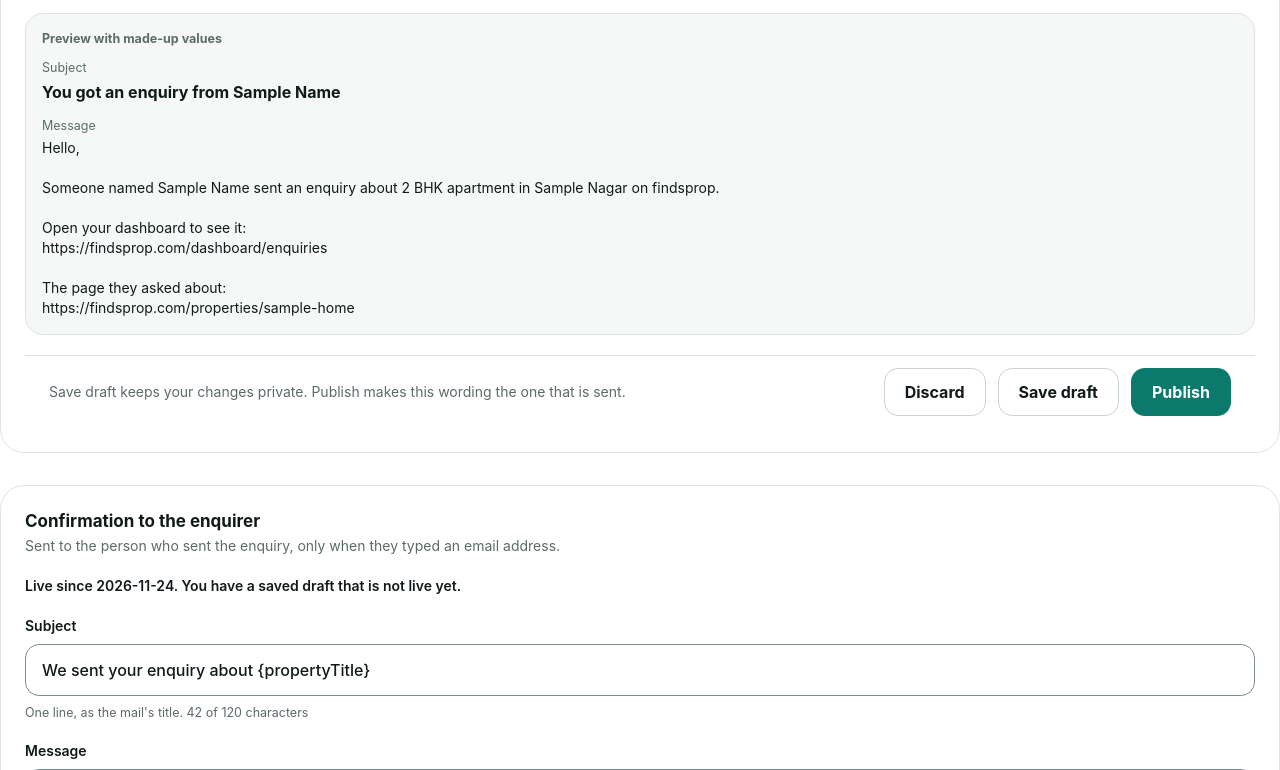
it: UT-mail-templates-form: the Emails page (ADR-183, part C) › puts the server's problem on its box and does not read the page again
The width and height of the screenshot is (1280, 770).
(page scrolled)
Click the button "Save draft". click: (1058, 392)
box: [998,368,1119,416]
(page scrolled)
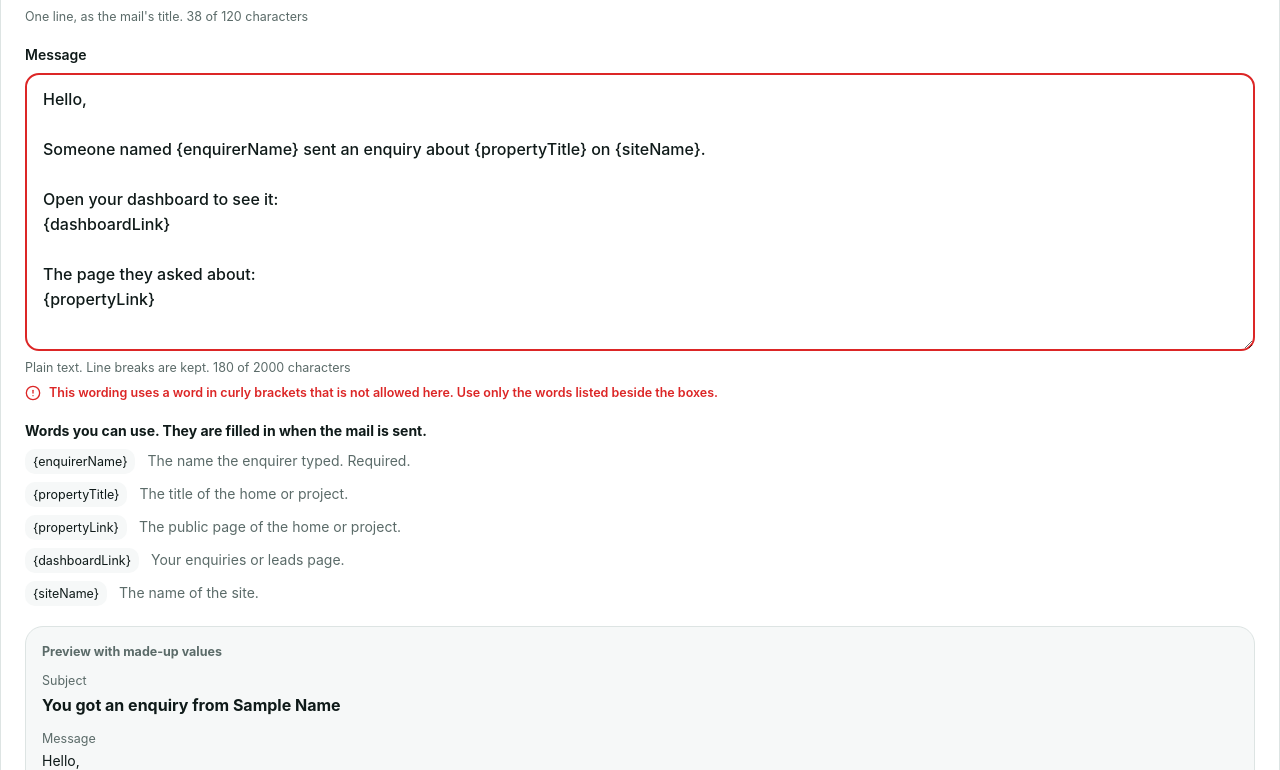
Now the text "not allowed here" is shown, box [49,385,718,400]
